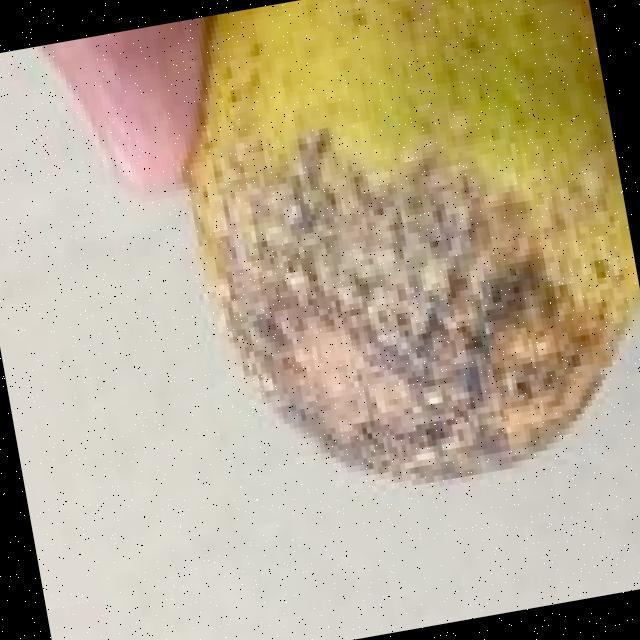Bad_Lime-0-1-day: (191, 0, 640, 487)
